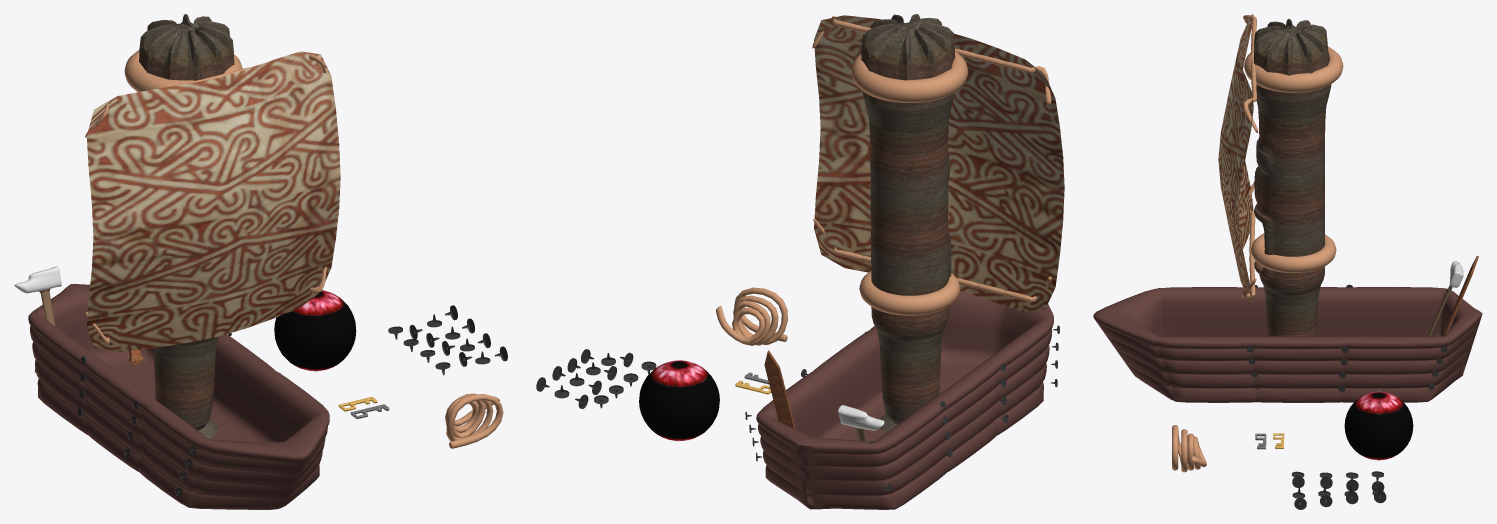
Rendered from Puzzle items FULL.fbx.
3 views of the same model, side by side, from view 1: azimuth 30°, elevation 25°; view 2: azimuth 150°, elevation 25°; view 3: azimuth 270°, elevation 25° (orthographic). The views are drawn at different scales.
Parts seen in each view (by area): view 1: Plane.001, boat, tiki, skull eye, rope.001, nails.002, Torus, hammer.001, nails; view 2: Plane.001, boat, tiki, skull eye, Torus, rope.001, Torus.001, nails.002, sword.001, rope, rope 2, hammer.001 (+1 smaller); view 3: boat, tiki, Plane.001, skull eye, Torus, Torus.001, nails.002, rope.001, rope, rope 2, hammer.001, nails.
Boxes of the visible parts, box(x1,y1,x2,y2) form: Plane.001: box(86, 51, 340, 351); boat: box(28, 284, 329, 509); tiki: box(139, 14, 234, 438); skull eye: box(274, 290, 356, 371); rope.001: box(445, 393, 503, 448); nails.002: box(388, 305, 507, 375); Torus: box(124, 50, 242, 91); hammer.001: box(14, 266, 61, 326); nails: box(34, 310, 280, 495); Plane.001: box(814, 15, 1064, 311); boat: box(756, 291, 1053, 509); tiki: box(861, 14, 955, 432); skull eye: box(639, 360, 719, 441); Torus: box(851, 51, 968, 102); rope.001: box(716, 287, 787, 345); Torus.001: box(859, 271, 959, 315); nails.002: box(536, 349, 656, 408); sword.001: box(764, 350, 795, 429); rope: box(812, 16, 1051, 106); rope 2: box(813, 219, 1051, 301); hammer.001: box(838, 405, 884, 441); boat: box(1093, 287, 1482, 402); tiki: box(1253, 19, 1331, 336); Plane.001: box(1218, 14, 1253, 305); skull eye: box(1344, 391, 1413, 460); Torus: box(1244, 46, 1343, 92); Torus.001: box(1251, 233, 1336, 273); nails.002: box(1291, 471, 1386, 509); rope.001: box(1172, 425, 1206, 472); rope: box(1243, 15, 1258, 132); rope 2: box(1241, 182, 1256, 298); hammer.001: box(1428, 261, 1463, 336); nails: box(1158, 284, 1447, 391).
Bounding box in the file's own units: 1263 × 1143 × 1133.
